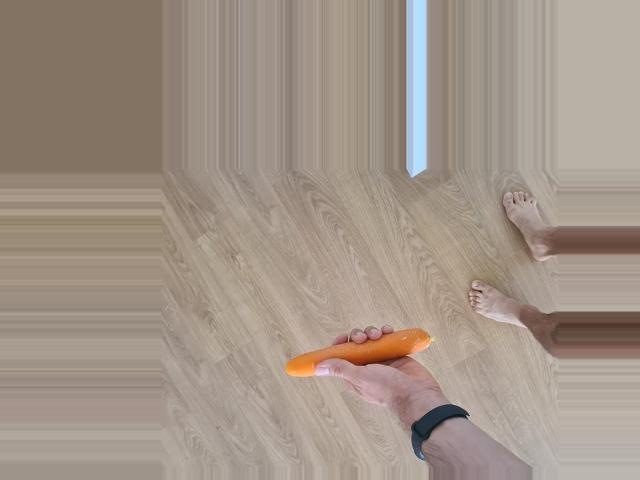carrot: (289, 326, 433, 377)
